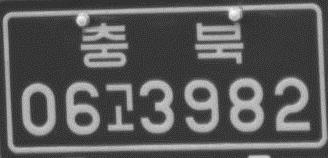0: (20, 80, 58, 137)
2: (272, 74, 312, 134)
3: (138, 78, 175, 134)
6: (64, 79, 101, 136)
8: (228, 75, 265, 133)
9: (182, 77, 221, 135)
고: (103, 79, 138, 133)
충북_D: (78, 19, 244, 70)
